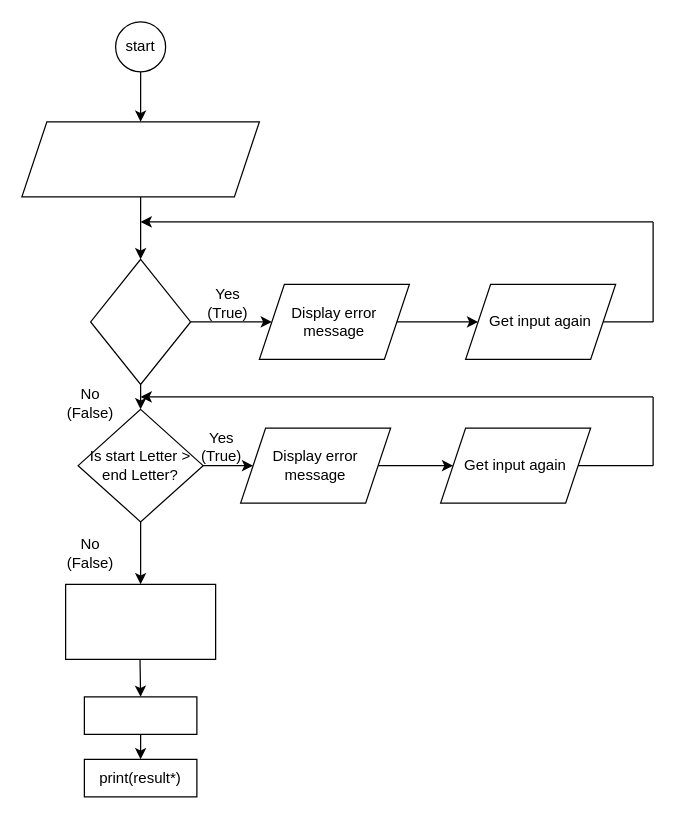
Image size: 685x819. Some labels were removed from this diagram. Each missing label, with the box of its shape:
Does input contain integers?: (89, 258, 191, 384)
for i in range(ord(start)), ord(end) + 1): (64, 583, 216, 659)
Get user input for start alphabet and end alphabet: (21, 121, 259, 197)
result.append: (83, 696, 197, 734)
